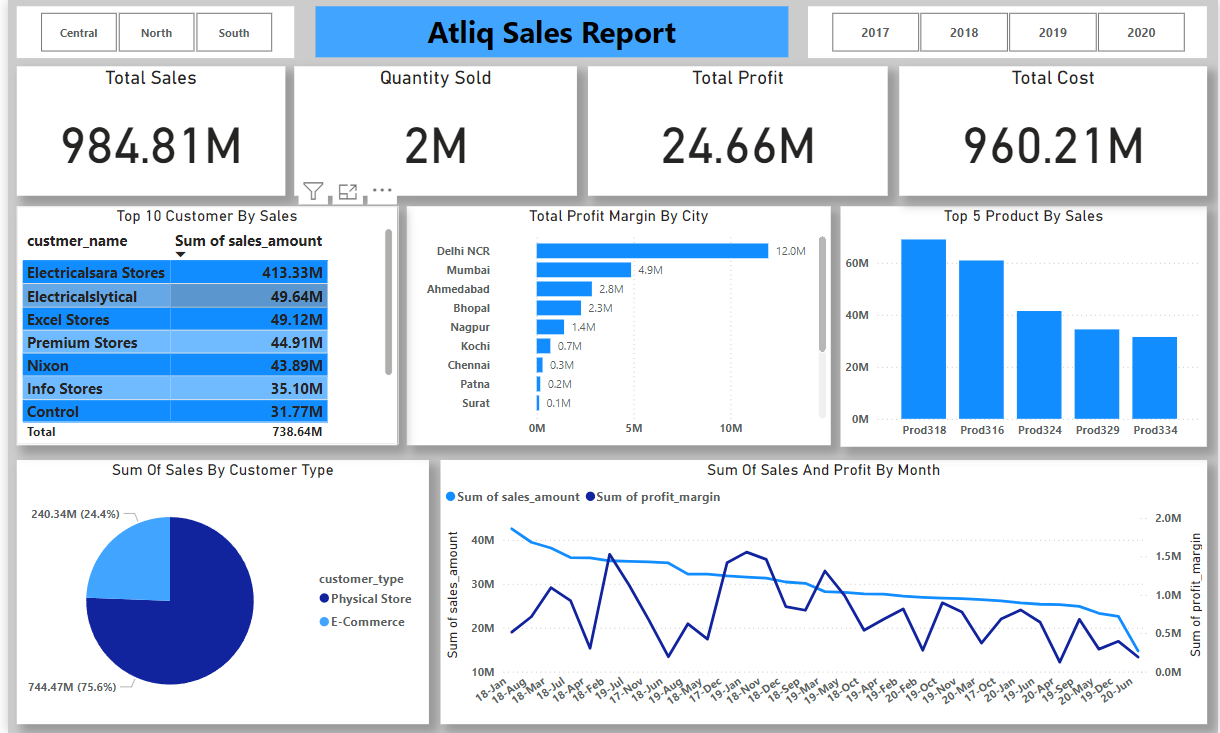

The dashboard page shown, as its layout file describes it:
{"tool":"powerbi","page":{"name":"Page 1","canvas":[1308,793],"ordinal":0},"visuals":[{"type":"card","title":"Total Sales ","fields":{"Values":["Sum(sales transactions.sales_amount)"]},"box":[9.9,71.8,290.1,139.4],"z":0},{"type":"card","title":"Quantity Sold","fields":{"Values":["Sum(sales transactions.sales_qty)"]},"box":[310,71.4,305.7,140],"z":1000},{"type":"card","title":"Total Profit","fields":{"Values":["Sum(sales transactions.profit_margin)"]},"box":[627.1,71.4,324.3,140],"z":2000},{"type":"pieChart","title":"Sum Of Sales By Customer Type","fields":{"Category":["sales customers.customer_type"],"Y":["Sum(sales transactions.sales_amount)"]},"box":[10,497.1,445.7,285.7],"z":3000},{"type":"barChart","title":"Total Profit Margin By City","fields":{"Y":["Sum(sales transactions.profit_margin)"],"Category":["sales markets.markets_name"]},"box":[431.4,222.9,458.6,258.6],"z":4000},{"type":"lineChart","title":"Sum Of Sales And Profit By Month","fields":{"Category":["sales date.date_yy_mmm"],"Y":["Sum(sales transactions.sales_amount)"],"Y2":["Sum(sales transactions.profit_margin)"]},"box":[467.1,497.1,828.6,285.7],"z":5000},{"type":"slicer","fields":{"Values":["sales date.year"]},"box":[864.4,6.8,431.5,56.2],"z":6000},{"type":"columnChart","title":"Top 5 Product By Sales","fields":{"Category":["sales transactions.product_code"],"Y":["Sum(sales transactions.sales_amount)"]},"box":[900,222.9,395.7,260],"z":7000},{"type":"tableEx","title":"Top 10 Customer By Sales","fields":{"Values":["sales customers.custmer_name","Sum(sales transactions.sales_amount)"]},"box":[10,222.9,411.4,258.6],"z":8000},{"type":"card","title":"Total Cost","fields":{"Values":["Sum(sales transactions.cost_price)"]},"box":[962.9,71.4,332.9,140],"z":9000},{"type":"slicer","fields":{"Values":["sales markets.zone"]},"box":[10,7.1,300,55.7],"z":10000},{"type":"textbox","box":[332.4,6.8,510.8,55.4],"z":11000}]}

Visuals, with their boxes in screenshot pixels (x1, y1, x2, y2), scaled from the page's 1308x793 canvas onto the 1220x733 screenshot:
"Total Sales " card: x1=9, y1=66, x2=280, y2=195
"Quantity Sold" card: x1=289, y1=66, x2=574, y2=195
"Total Profit" card: x1=585, y1=66, x2=887, y2=195
"Sum Of Sales By Customer Type" pieChart: x1=9, y1=459, x2=425, y2=724
"Total Profit Margin By City" barChart: x1=402, y1=206, x2=830, y2=445
"Sum Of Sales And Profit By Month" lineChart: x1=436, y1=459, x2=1209, y2=724
slicer - sales date.year: x1=806, y1=6, x2=1209, y2=58
"Top 5 Product By Sales" columnChart: x1=839, y1=206, x2=1209, y2=446
"Top 10 Customer By Sales" tableEx: x1=9, y1=206, x2=393, y2=445
"Total Cost" card: x1=898, y1=66, x2=1209, y2=195
slicer - sales markets.zone: x1=9, y1=7, x2=289, y2=58
textbox: x1=310, y1=6, x2=786, y2=57
